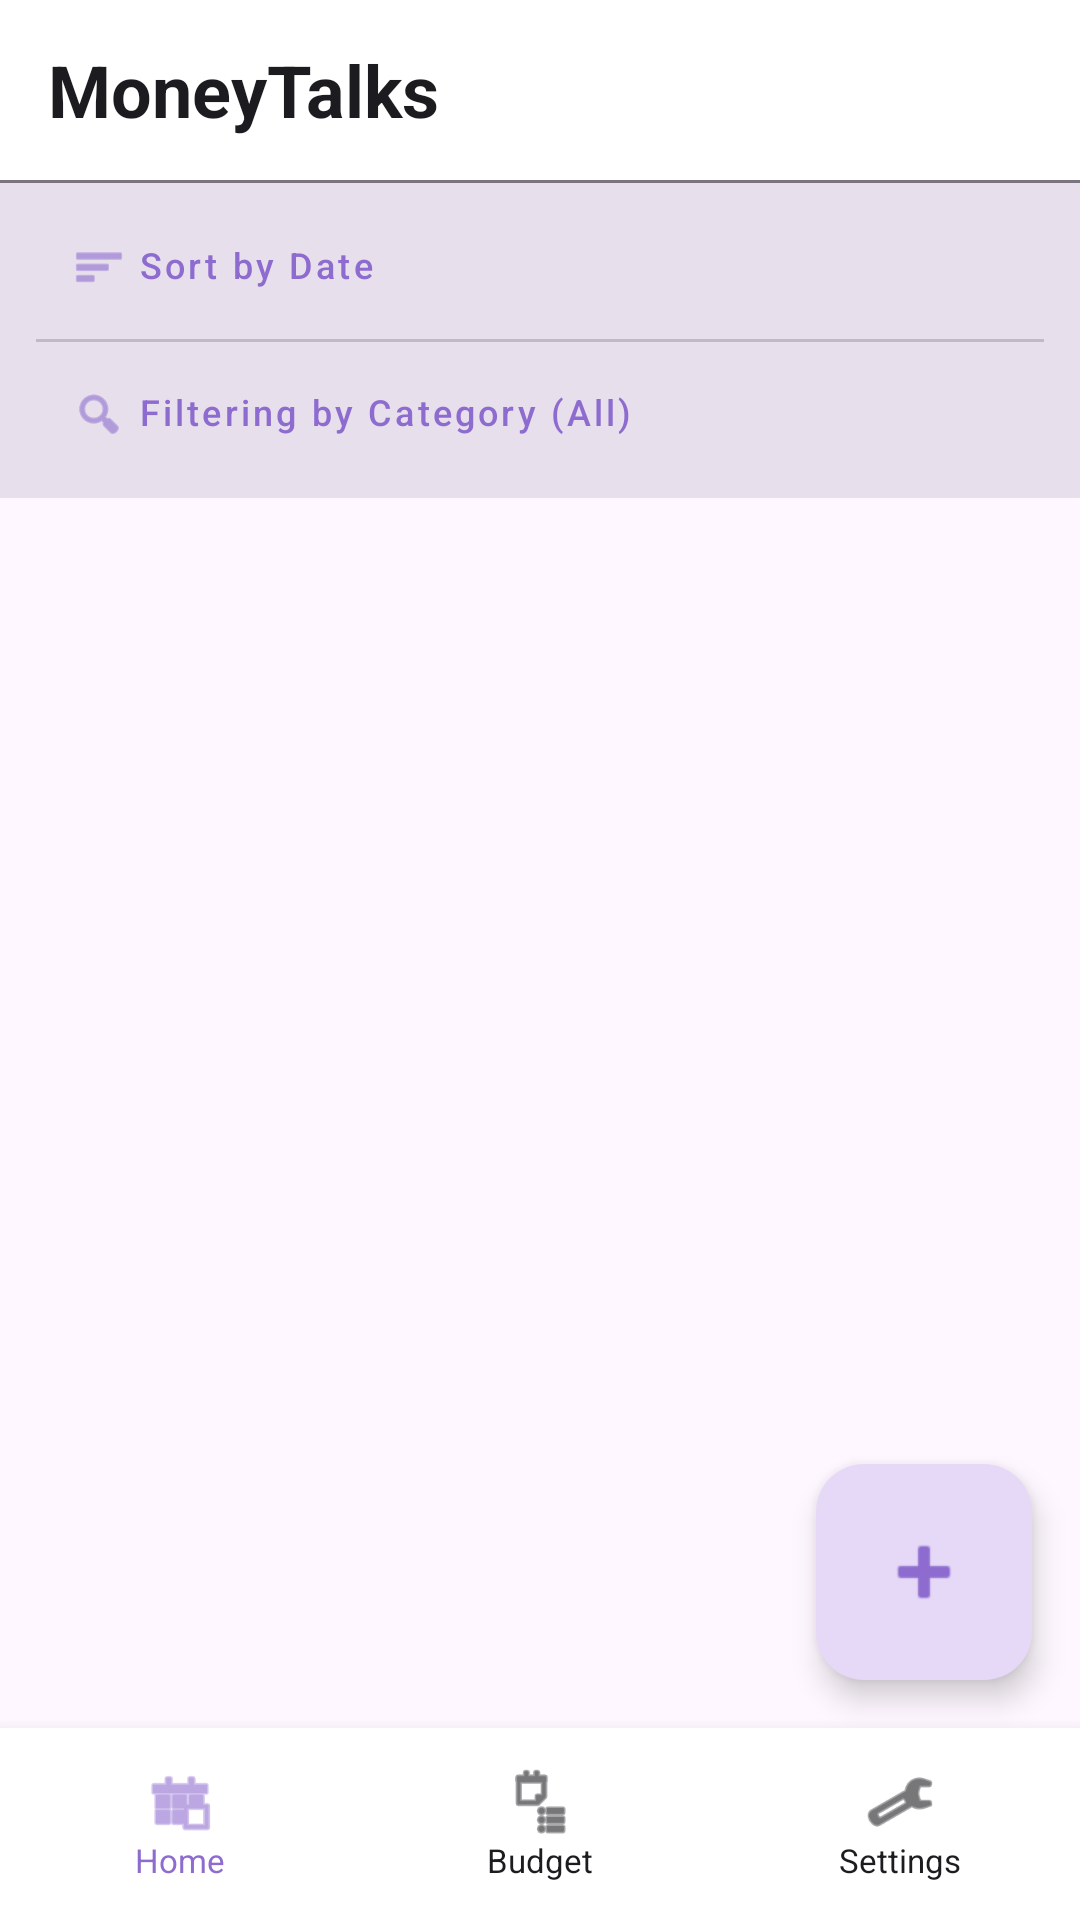

Point at icon controls on the screen. Image size 1080 x 1920, points as point (x, y).
Add Expense: point (924, 1572)
